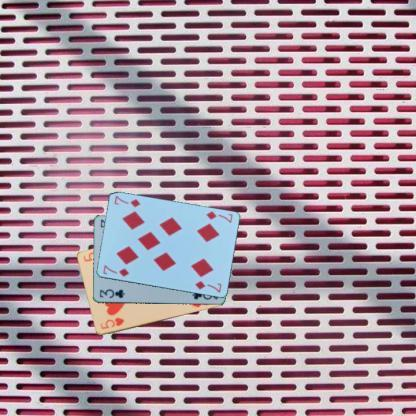3c: (96, 287, 126, 299)
5h: (98, 314, 126, 330)
7d: (204, 208, 233, 224), (100, 263, 130, 278)
